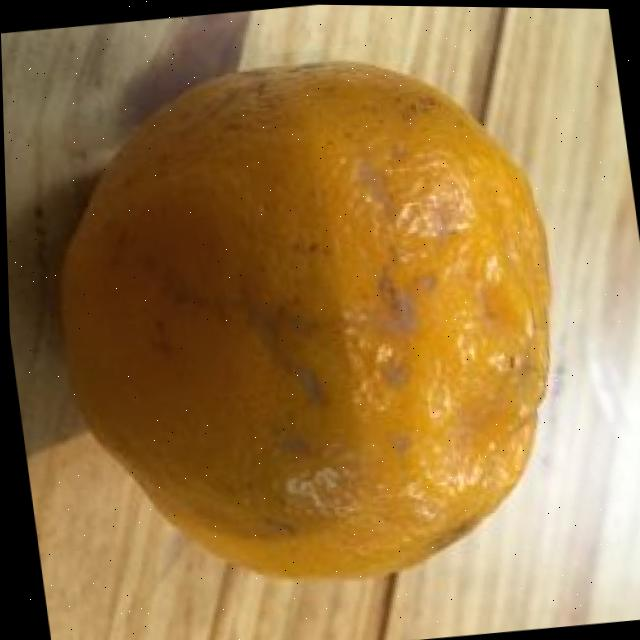Wet: (20, 34, 597, 612)
